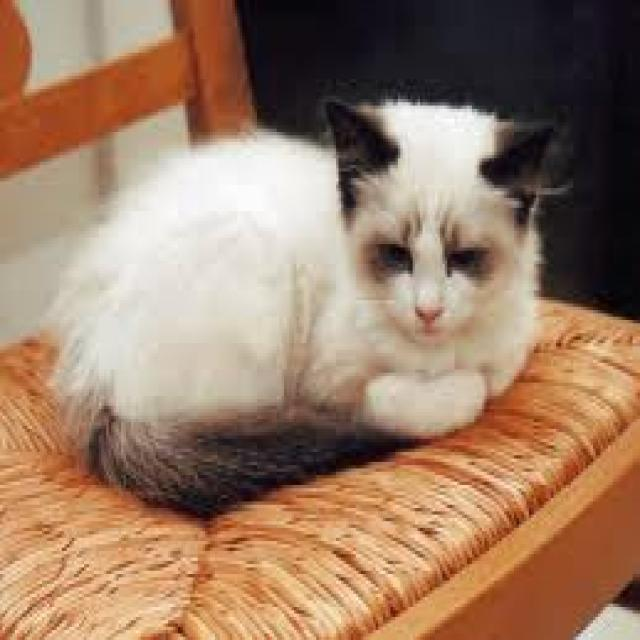Ragdoll: (321, 83, 571, 347)
